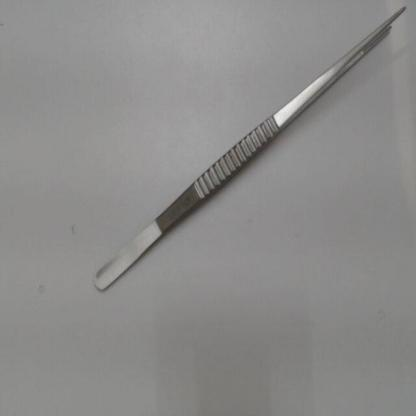DeBakey Dissector: (88, 2, 411, 302)
